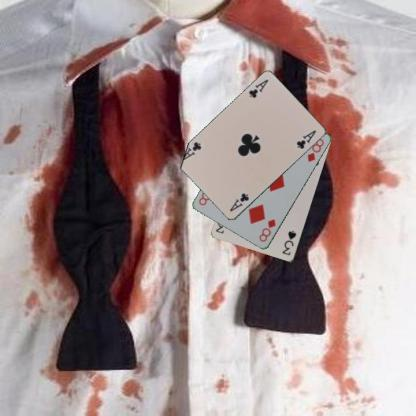3s: (280, 228, 298, 257)
8d: (256, 217, 276, 243)
Ac: (246, 77, 270, 99), (227, 191, 250, 213)
